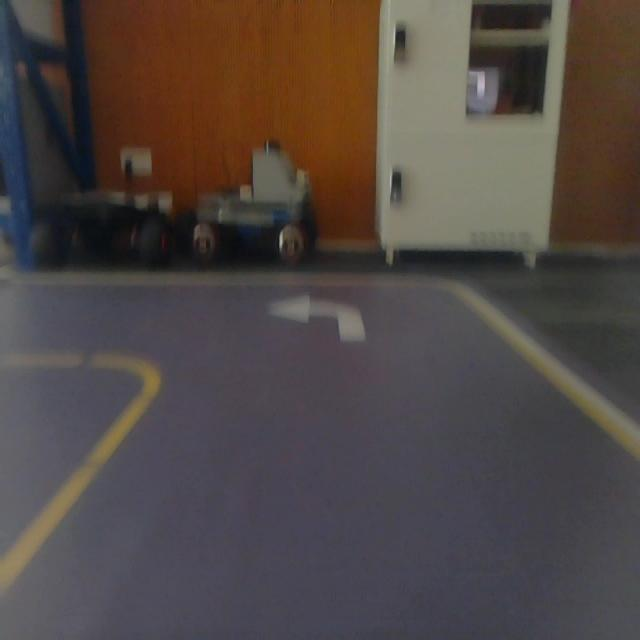left_lane: (0, 385, 158, 602)
right_lane: (456, 289, 640, 465)
